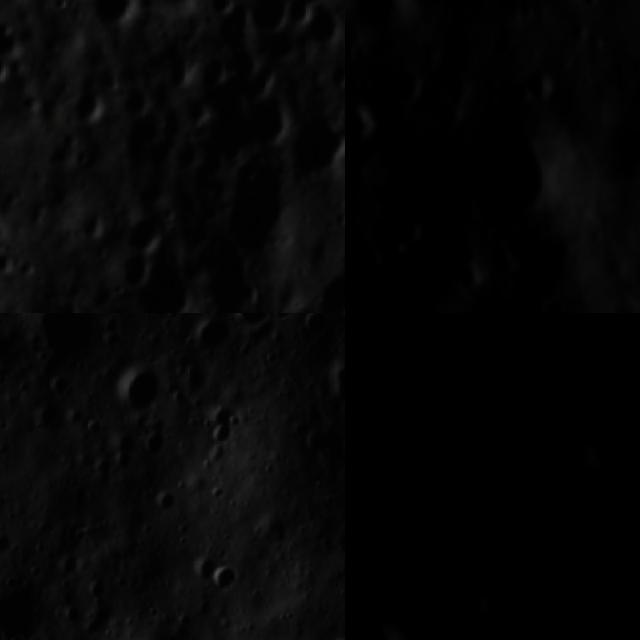crater: (214, 149, 303, 255), (202, 229, 263, 313), (278, 98, 345, 174), (130, 243, 201, 313), (369, 588, 463, 640), (362, 203, 438, 265), (31, 313, 116, 366), (113, 96, 170, 174), (109, 356, 175, 422), (241, 85, 304, 145), (375, 438, 432, 496), (60, 70, 109, 130), (116, 203, 170, 257), (575, 428, 628, 476), (79, 0, 148, 36), (183, 313, 237, 357), (301, 0, 345, 51), (310, 254, 345, 313), (484, 236, 526, 284), (244, 0, 293, 37), (519, 70, 564, 110), (192, 47, 228, 96), (164, 46, 199, 94), (345, 94, 377, 145), (476, 581, 511, 620), (42, 285, 89, 313), (208, 556, 240, 597), (198, 0, 244, 25), (138, 626, 209, 640), (429, 328, 461, 359), (345, 520, 365, 569), (525, 488, 556, 519), (231, 313, 279, 329), (464, 346, 489, 375), (556, 572, 579, 600), (579, 0, 611, 15), (627, 38, 640, 67), (266, 313, 297, 325)
